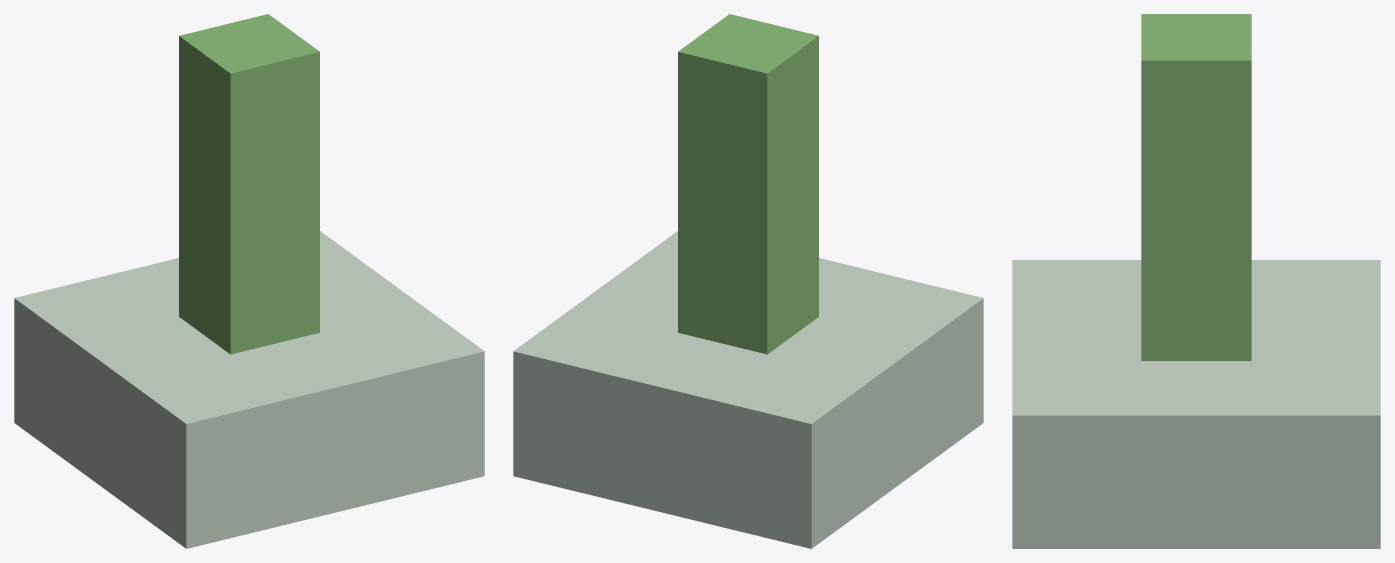
Rendered from Item_DS_Herb_ArchiveSage.glb.
The picture shows the model from 3 angles, left to right: view 1: azimuth 30°, elevation 25°; view 2: azimuth 150°, elevation 25°; view 3: azimuth 270°, elevation 25°; orthographic projection. The views are drawn at different scales.
Visible parts, largest first — view 1: Item_DS_Herb_ArchiveSage; view 2: Item_DS_Herb_ArchiveSage; view 3: Item_DS_Herb_ArchiveSage.
Part boxes in pixels (x1,y1,x2,y2): Item_DS_Herb_ArchiveSage: [14, 14, 484, 548]; Item_DS_Herb_ArchiveSage: [513, 14, 983, 548]; Item_DS_Herb_ArchiveSage: [1012, 14, 1380, 548].
Size of the model in its own units: 0.2 by 0.26 by 0.2.
